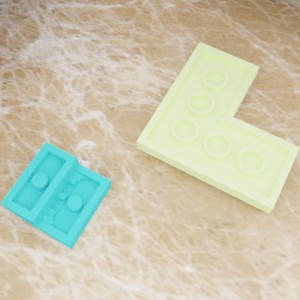lego: (136, 41, 299, 213), (0, 141, 112, 249)
